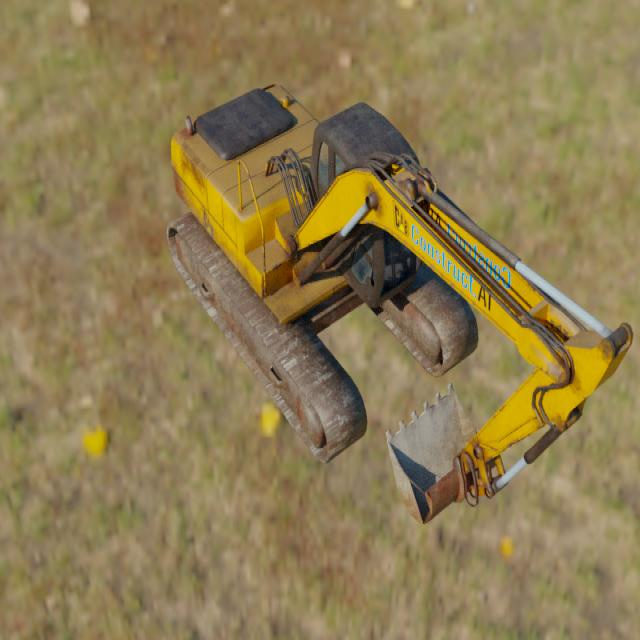excavator: (166, 83, 633, 524)
